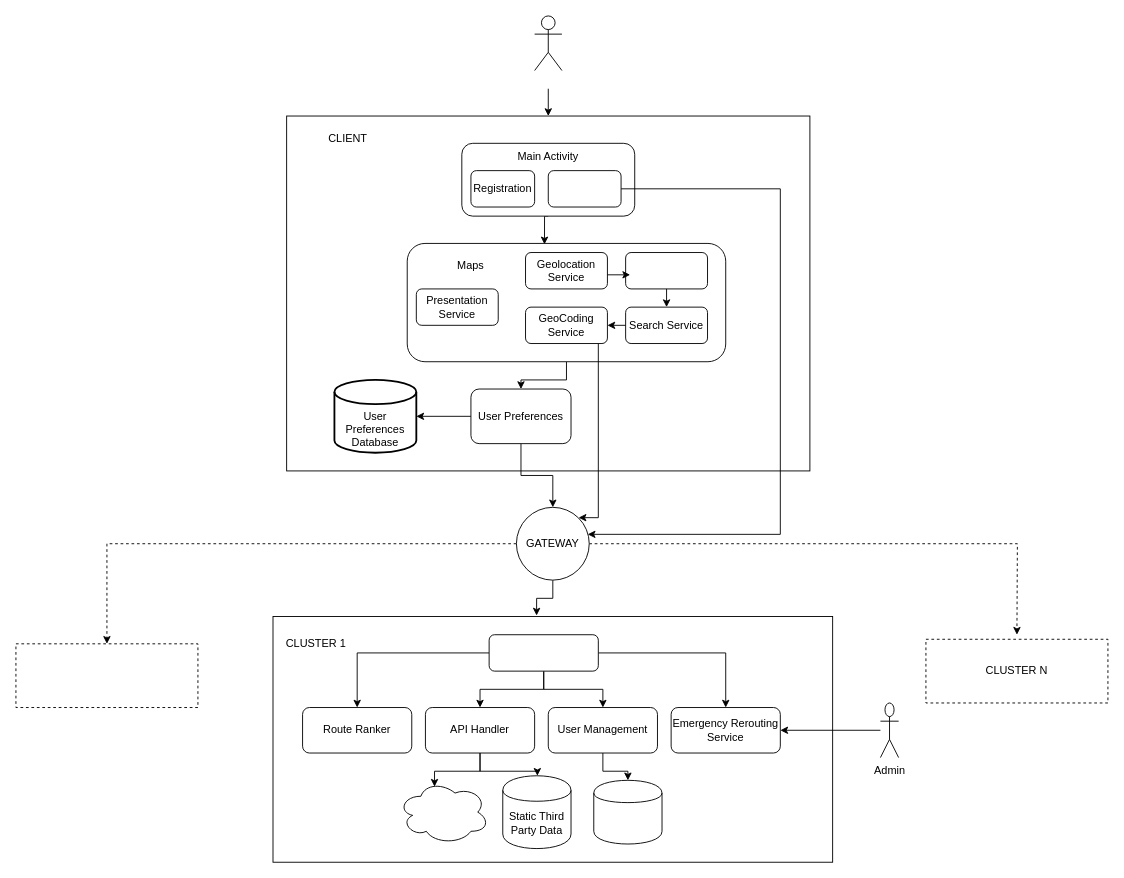
Some shapes in this 1124 by 878 pixel diagram are drawn without their labels. The shapes that lost their labels are listed below. From the top down, each one's centre as x and y in pixels, then its label:
pixel 548 43: User
pixel 584 188: Login (GOAuth)
pixel 666 270: Places Service
pixel 543 652: Service Registry
pixel 106 675: CLUSTER 0
pixel 443 811: Open Source Data
pixel 627 811: User Database
